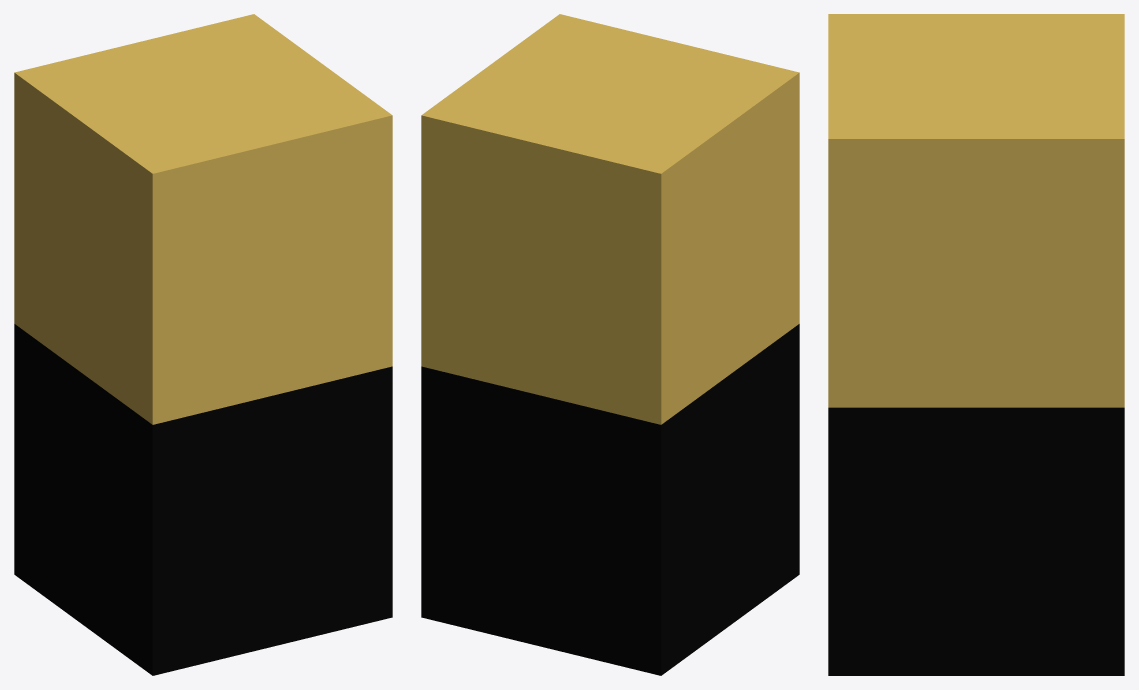
File: Player_Cheetah.vox-3.obj
3 views of the same model, side by side, from view 1: azimuth 30°, elevation 25°; view 2: azimuth 150°, elevation 25°; view 3: azimuth 270°, elevation 25° (orthographic). The views are drawn at different scales.
Size of the model in its own units: 0.1 by 0.2 by 0.1.
Materials: 1 (1 with a texture image).
